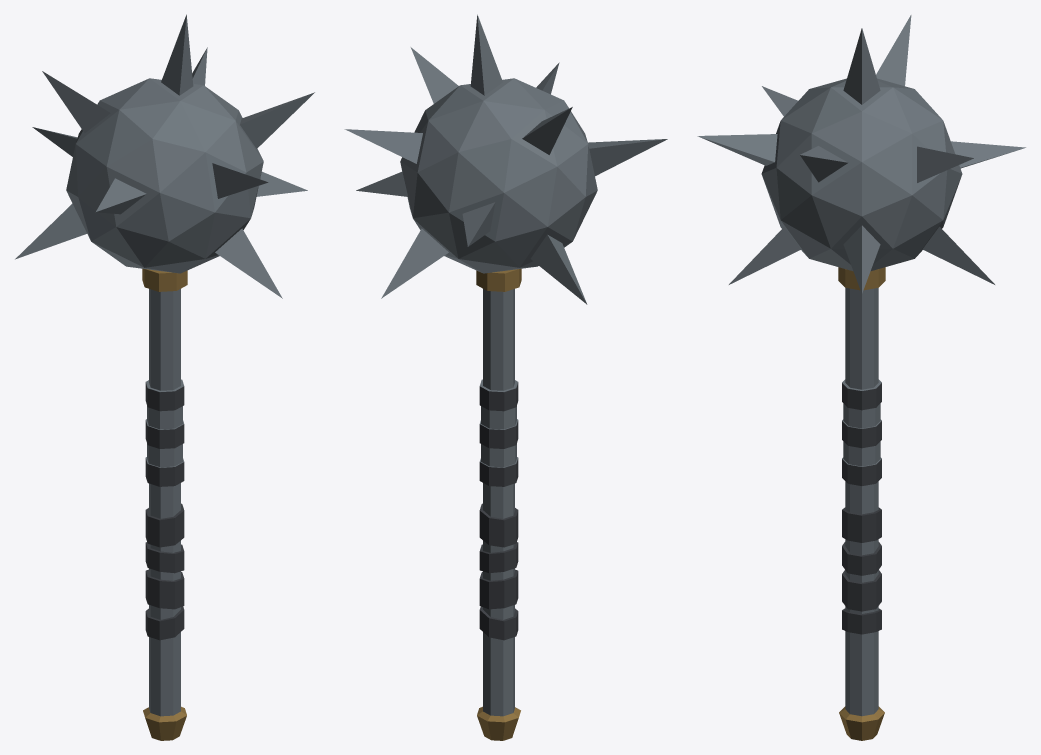
Rendered from MorningStar.glb.
The picture shows the model from 3 angles, left to right: view 1: azimuth 30°, elevation 25°; view 2: azimuth 150°, elevation 25°; view 3: azimuth 270°, elevation 25°; orthographic projection.
Visible parts, largest first — view 1: MorningStar; view 2: MorningStar; view 3: MorningStar.
Part boxes in pixels (left/top/right/bottom): MorningStar: left=15, top=14, right=314, bottom=740; MorningStar: left=344, top=14, right=667, bottom=740; MorningStar: left=697, top=15, right=1025, bottom=740.
Bounding box in the file's own units: 0.3834 × 0.9963 × 0.4149.
Materials: 1 (1 with a texture image).
